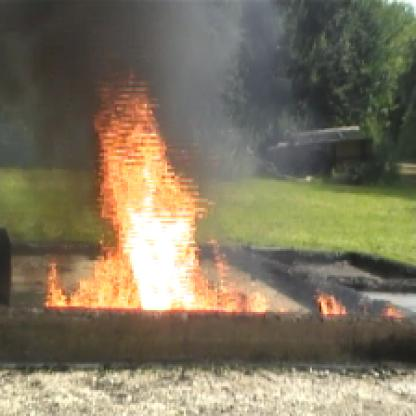Fire: (30, 65, 266, 312)
Smoke: (2, 2, 210, 65)
